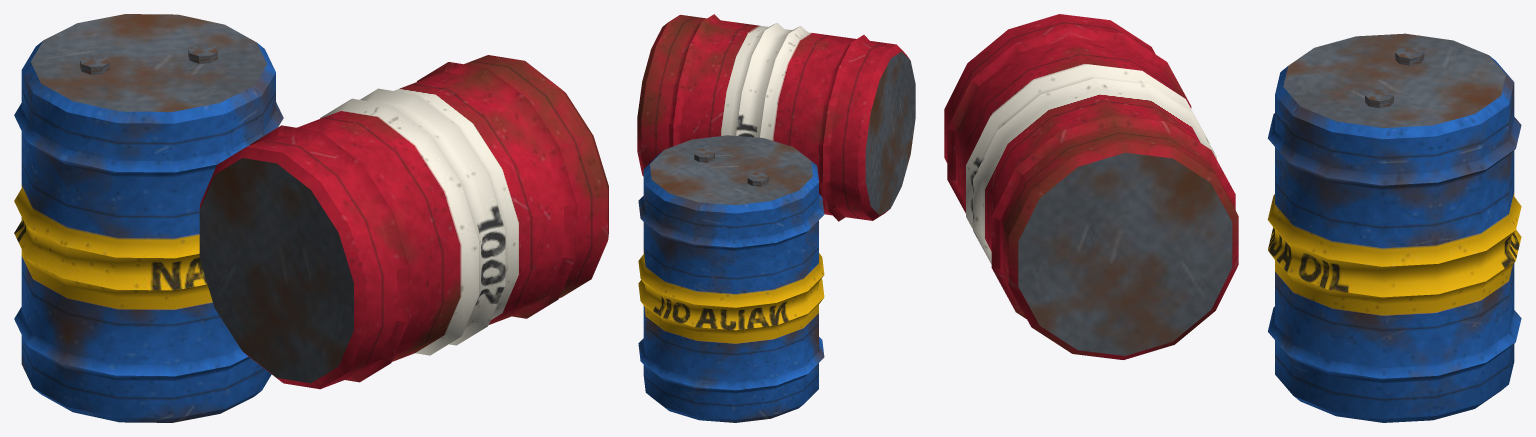
Rendered from env_barrel.glb.
3 renders of one model, left to right at view 1: azimuth 30°, elevation 25°; view 2: azimuth 150°, elevation 25°; view 3: azimuth 270°, elevation 25°, orthographic. The views are drawn at different scales.
Parts seen in each view (by area): view 1: env_barrel_body; view 2: env_barrel_body; view 3: env_barrel_body.
Part boxes in pixels (x1,y1,x2,y2): env_barrel_body: [14, 14, 608, 422]; env_barrel_body: [637, 14, 915, 422]; env_barrel_body: [944, 14, 1521, 422].
Size of the model in its own units: 0.7374 by 0.686 by 1.03.
1 material, 1 textured.
